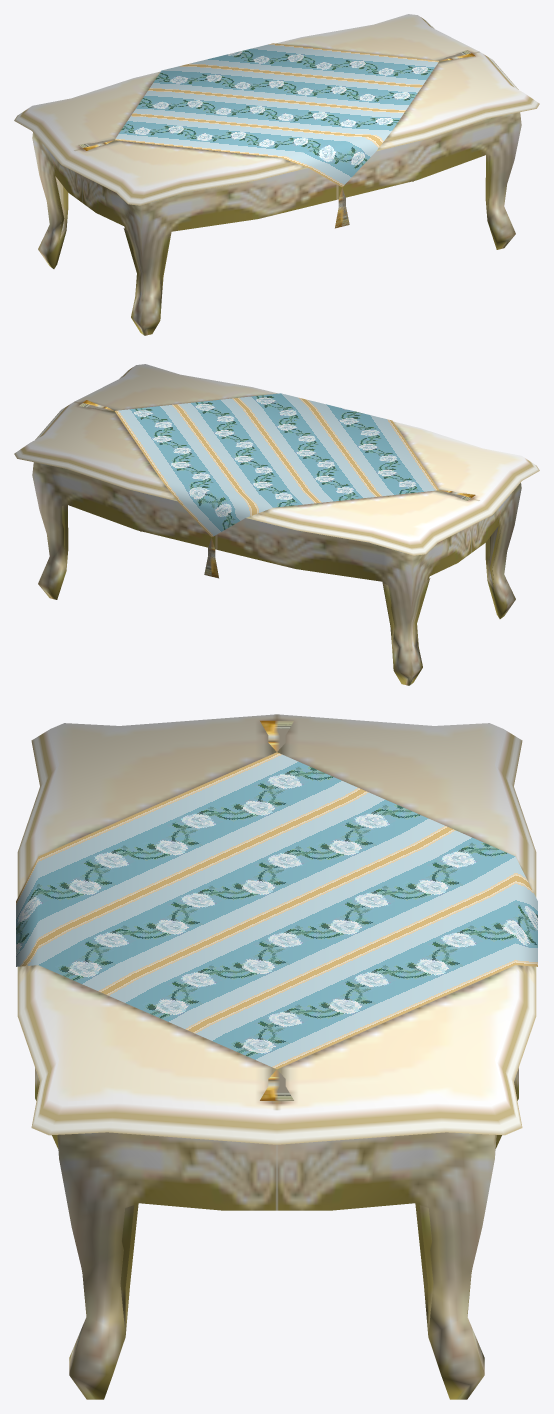
File: int_pri_tableM.dae
3 renders of one model, top to bottom at view 1: azimuth 30°, elevation 25°; view 2: azimuth 150°, elevation 25°; view 3: azimuth 270°, elevation 25°, orthographic. The views are drawn at different scales.
Parts seen in each view (by area): view 1: int_pri_tableM; view 2: int_pri_tableM; view 3: int_pri_tableM.
Part boxes in pixels (bbox=[...]): int_pri_tableM: bbox=[14, 14, 539, 335]; int_pri_tableM: bbox=[14, 364, 539, 685]; int_pri_tableM: bbox=[16, 714, 537, 1399].
Bounding box in the file's own units: 57.6 × 20 × 30.2.
Materials: 2 (2 with a texture image).
